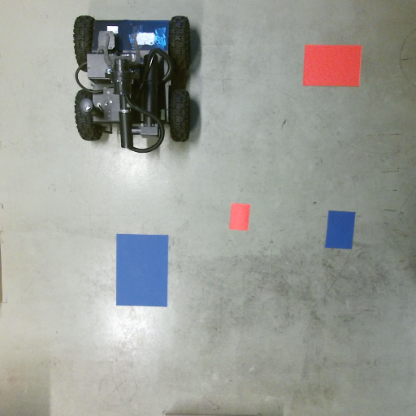Blue: (114, 232, 169, 310), (324, 210, 356, 250)
Jaguar: (71, 12, 195, 154)
Red: (301, 46, 362, 89), (227, 202, 250, 231)
